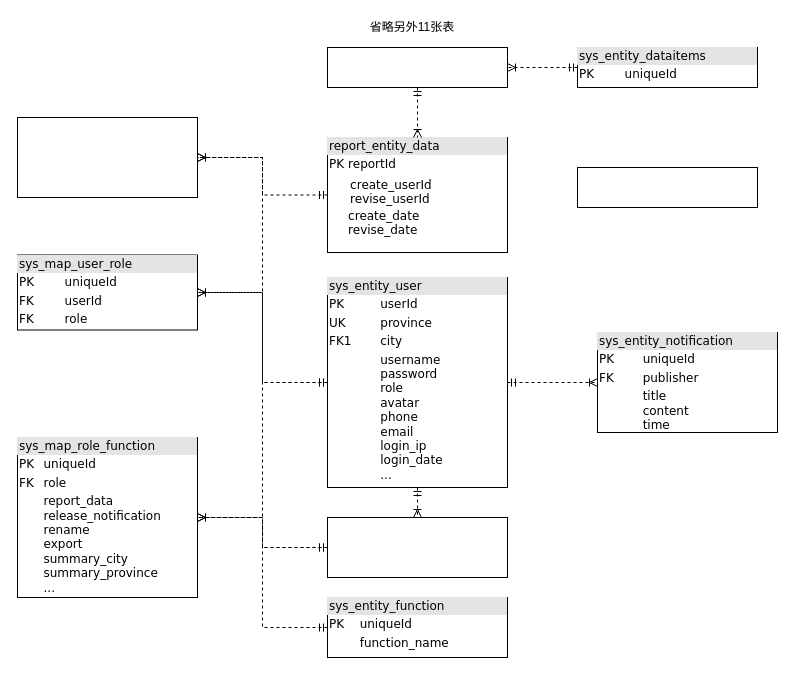
Some shapes in this 795 by 675 pixel diagram are drawn without their labels. The centre of each missing label's shape, as x and y in pixels:
"report_entity_profession PK uniqueId" belongs at point 417,67.
"sys_entity_dict PK uniqueId" belongs at point 667,187.
"sys_entity_role PK unique FK role" belongs at point 417,547.
"sys_map_report_user PK uniqueId FK userId FK reportId" belongs at point 107,157.
